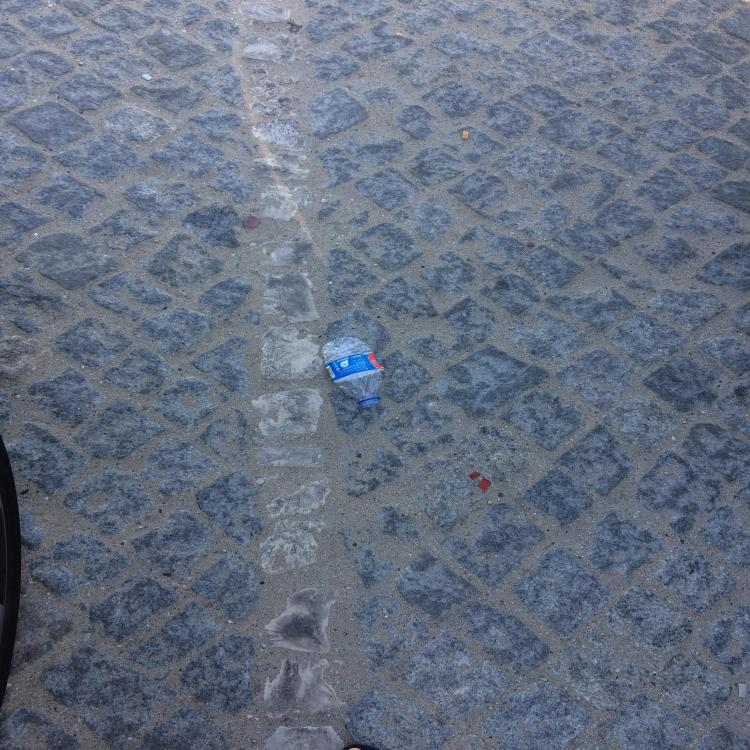Cigarette: (738, 684, 746, 698), (140, 73, 153, 80), (461, 130, 470, 140)
Clear plastic bottle: (320, 337, 384, 408)
Other plastic wrapper: (325, 353, 385, 383)
